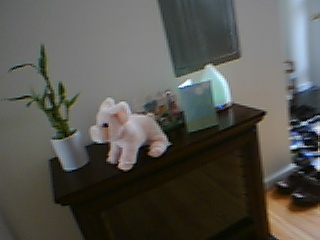piggy: (88, 96, 171, 172)
